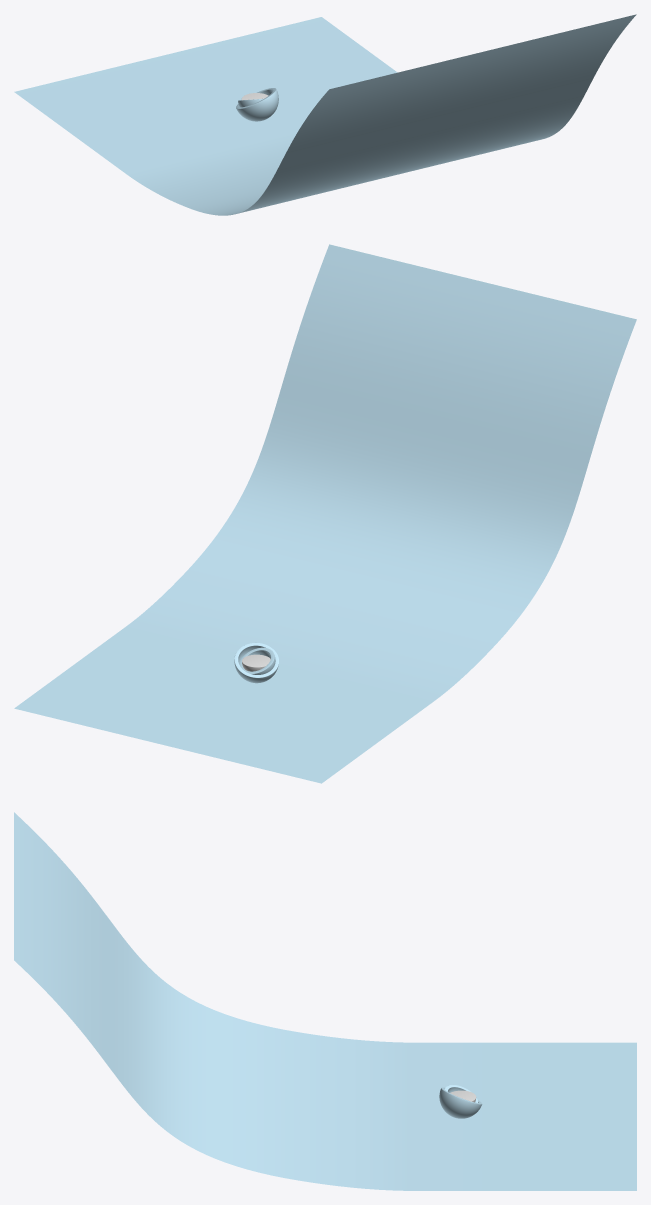
File: 蓝色底座.glb
3 renders of one model, top to bottom at view 1: azimuth 30°, elevation 25°; view 2: azimuth 150°, elevation 25°; view 3: azimuth 270°, elevation 25°, orthographic.
Visible parts, largest first — view 1: Platform3, Half_Sphere_Out; view 2: Platform3; view 3: Platform3, Half_Sphere_Out.
Part boxes in pixels (box(x1,y1,x2,y2)): Platform3: box(14, 14, 636, 215); Half_Sphere_Out: box(236, 88, 278, 121); Platform3: box(14, 244, 636, 783); Platform3: box(14, 812, 636, 1190); Half_Sphere_Out: box(439, 1087, 482, 1118).
Size of the model in its own units: 22.07 by 16 by 39.17.
